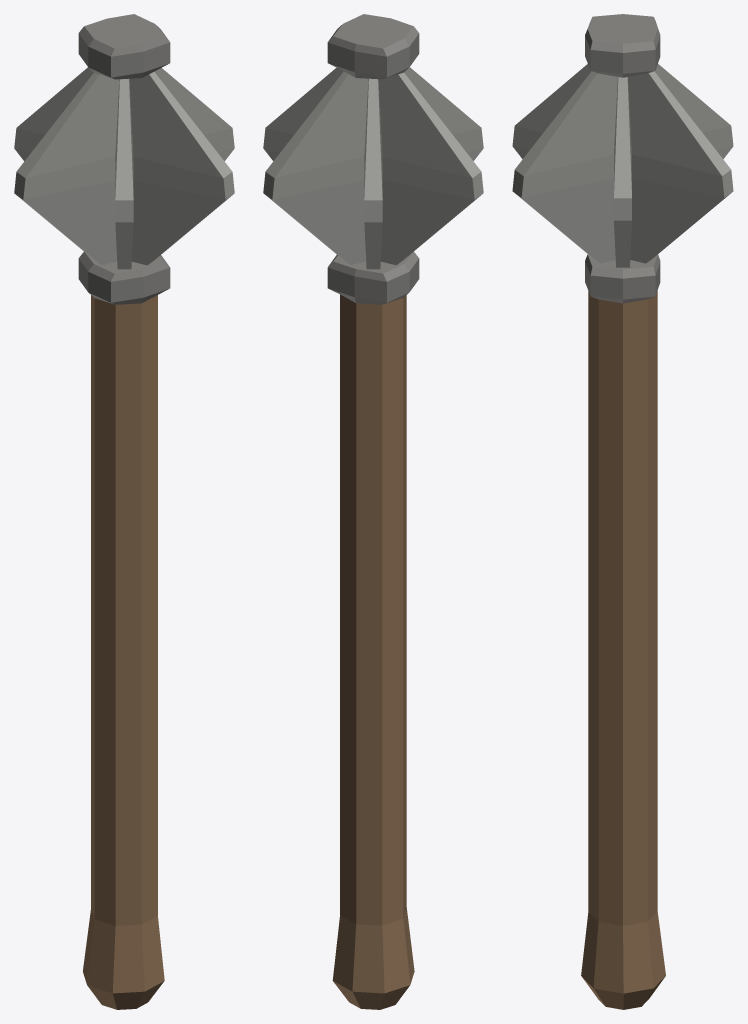
Rendered from SM_pwe_medieval_mace_05.fbx.
3 views of the same model, side by side, from view 1: azimuth 30°, elevation 25°; view 2: azimuth 150°, elevation 25°; view 3: azimuth 270°, elevation 25° (orthographic).
Visible parts, largest first — view 1: SM_pwe_medieval_mace_05; view 2: SM_pwe_medieval_mace_05; view 3: SM_pwe_medieval_mace_05.
Boxes of the visible parts, box(x1,y1,x2,y2) form: SM_pwe_medieval_mace_05: box(14, 14, 234, 1009); SM_pwe_medieval_mace_05: box(263, 14, 483, 1009); SM_pwe_medieval_mace_05: box(512, 14, 733, 1009).
Bounding box in the file's own units: 16.13 × 70.6 × 14.57.
